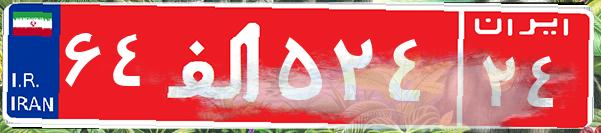2: (330, 28, 385, 110), (475, 38, 525, 113)
4: (385, 28, 445, 110), (110, 28, 158, 105), (525, 38, 570, 115)
5: (273, 28, 330, 110)
6: (57, 26, 110, 107)
الف: (158, 15, 273, 115)
